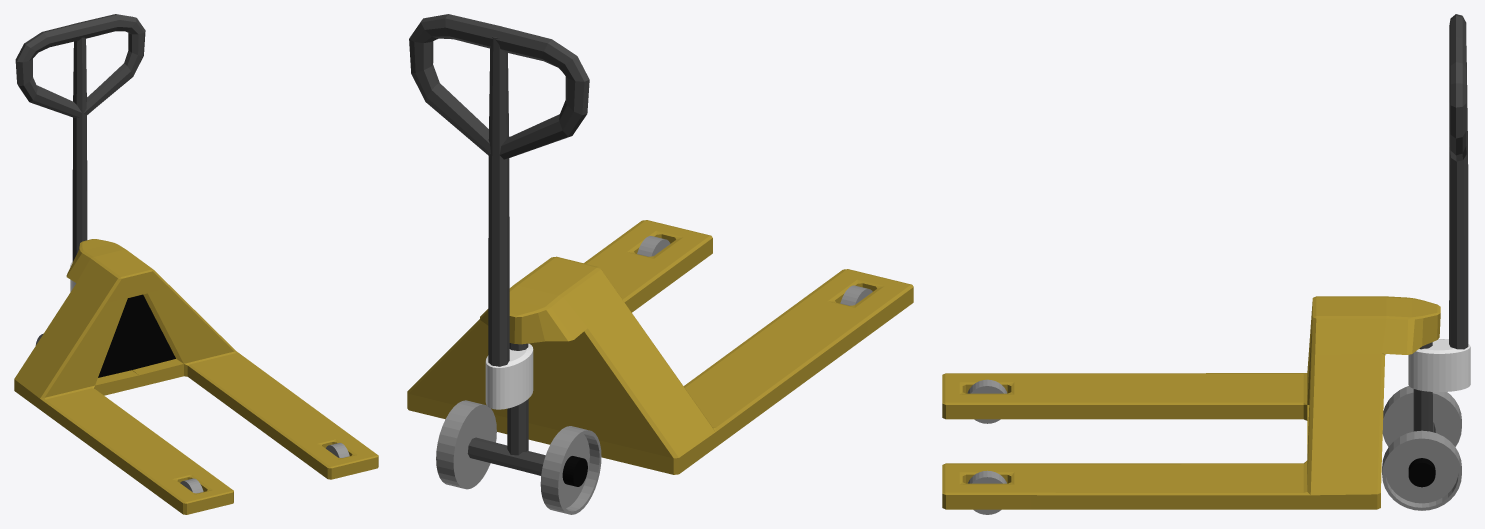
File: Pallet Truck.fbx
3 views of the same model, side by side, from view 1: azimuth 30°, elevation 25°; view 2: azimuth 150°, elevation 25°; view 3: azimuth 270°, elevation 25° (orthographic). The views are drawn at different scales.
Parts seen in each view (by area): view 1: Trolley Cart; view 2: Trolley Cart; view 3: Trolley Cart.
Boxes of the visible parts, bbox=[...] form: Trolley Cart: bbox=[14, 14, 378, 514]; Trolley Cart: bbox=[407, 14, 913, 514]; Trolley Cart: bbox=[942, 14, 1470, 514].
Size of the model in its own units: 769 by 1306 by 1404.
